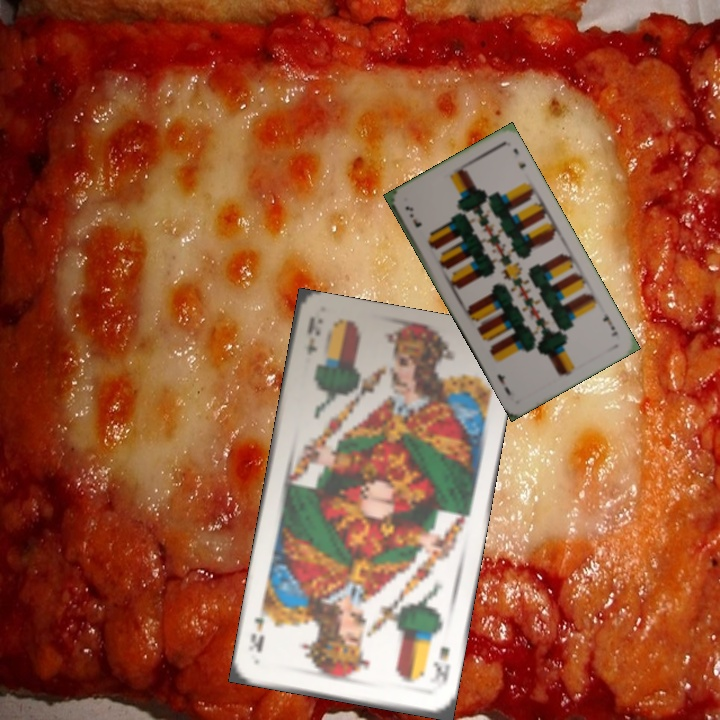E7: (401, 202, 425, 230), (598, 309, 620, 339)
EK: (425, 642, 453, 693), (303, 315, 323, 358)
